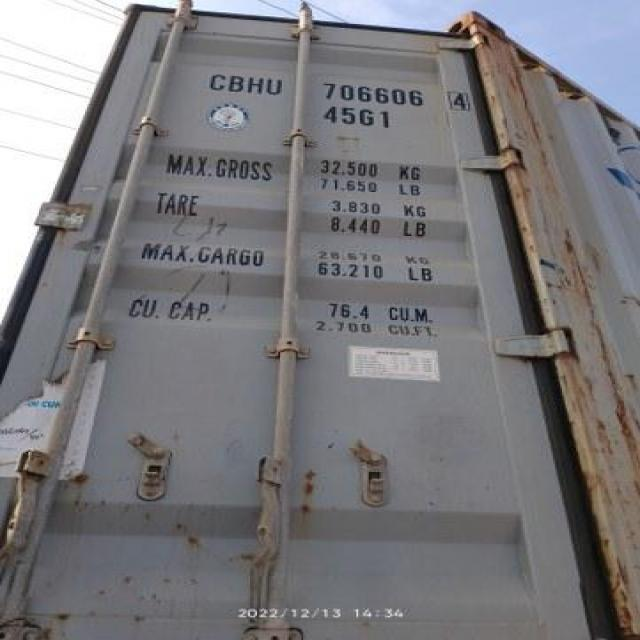ISO: (326, 108, 392, 130)
container_number: (199, 68, 474, 112)
